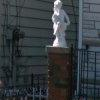Statue: (40, 1, 81, 54)
